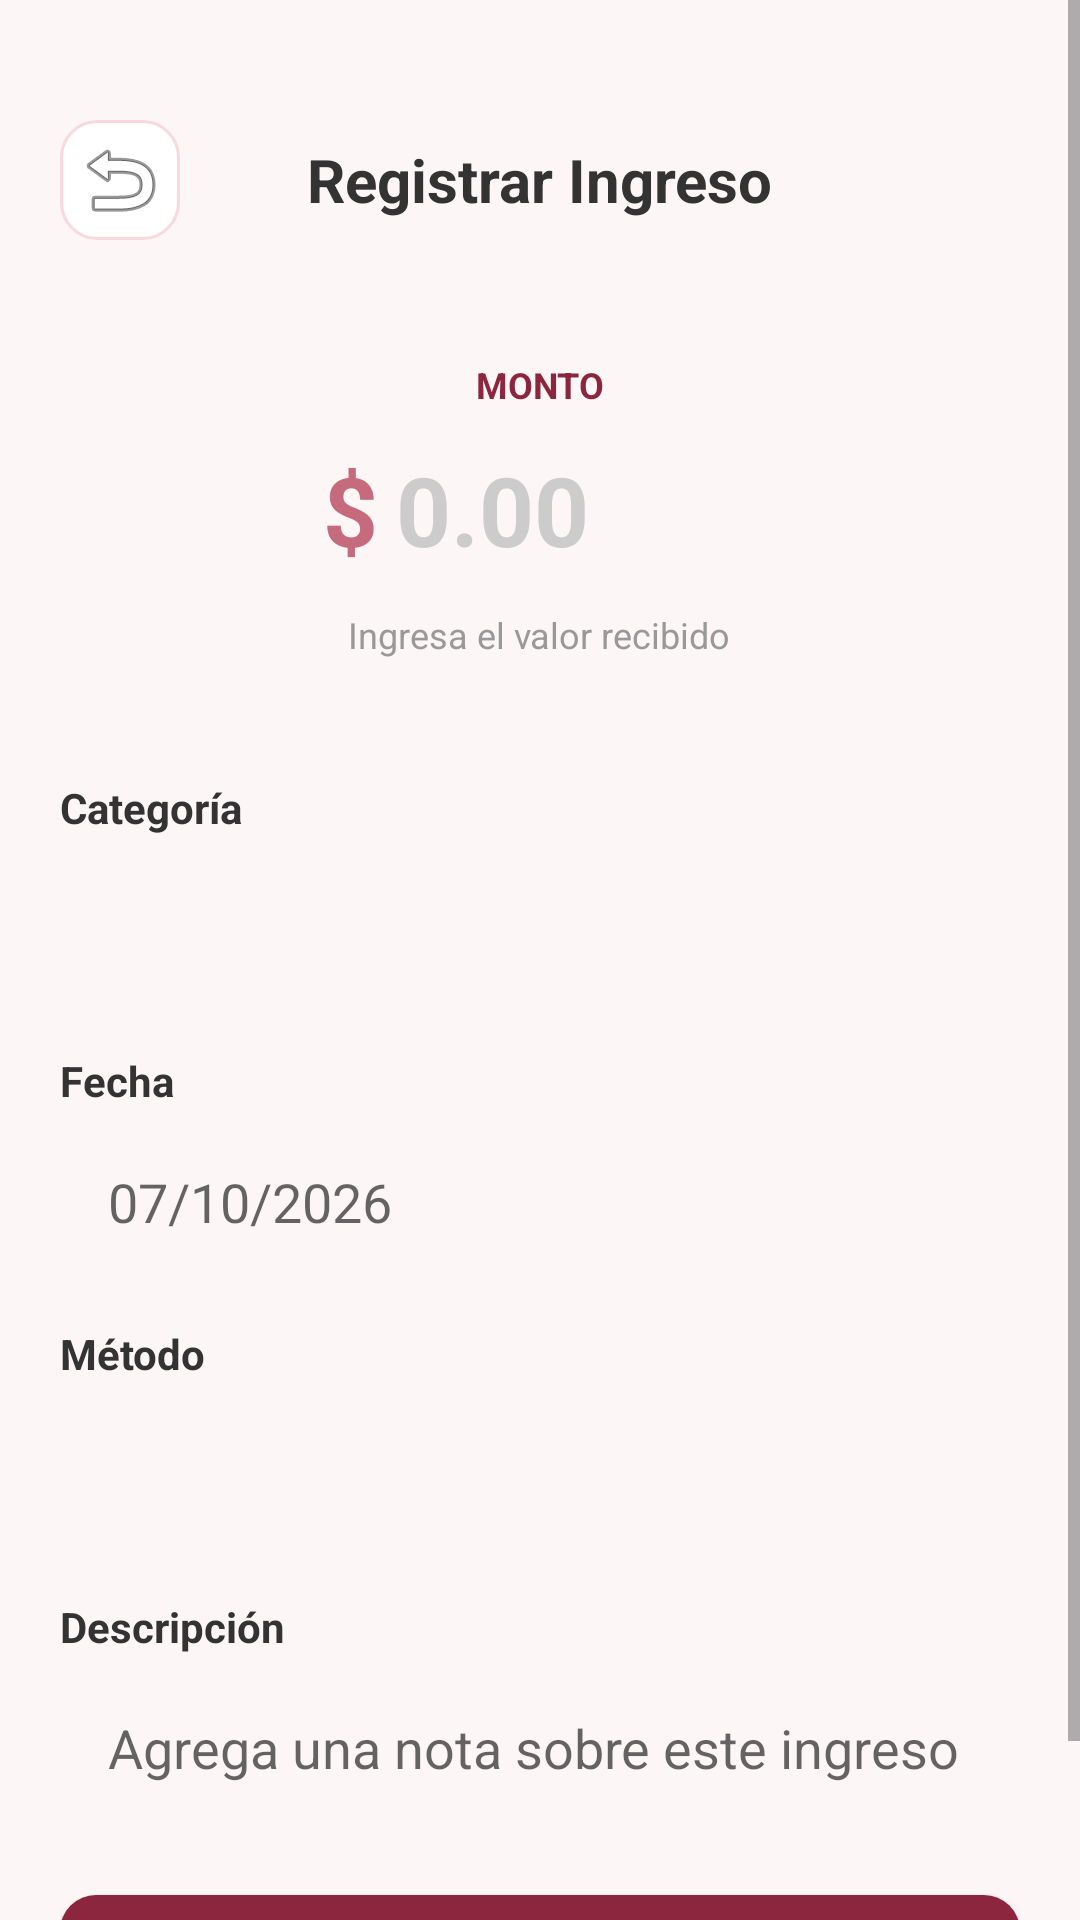

Screen size 1080 × 1920. Icon name, then its center in pixels as [x,y]:
Volver: [120,180]
